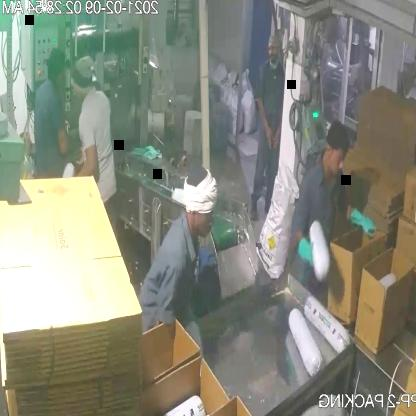glove: (278, 236, 325, 281), (344, 207, 382, 241)
no_glove: (64, 142, 97, 181), (253, 93, 275, 150)
